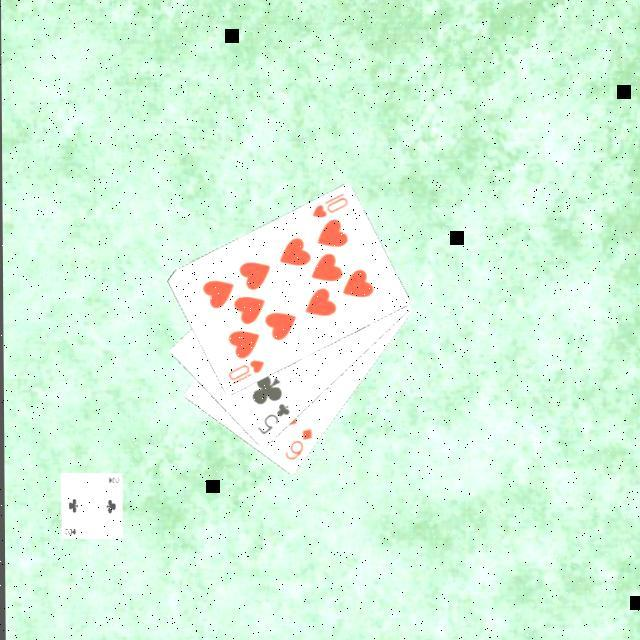10H: (222, 359, 264, 390), (307, 192, 349, 223)
5C: (250, 402, 290, 440)
6D: (278, 428, 312, 466)
